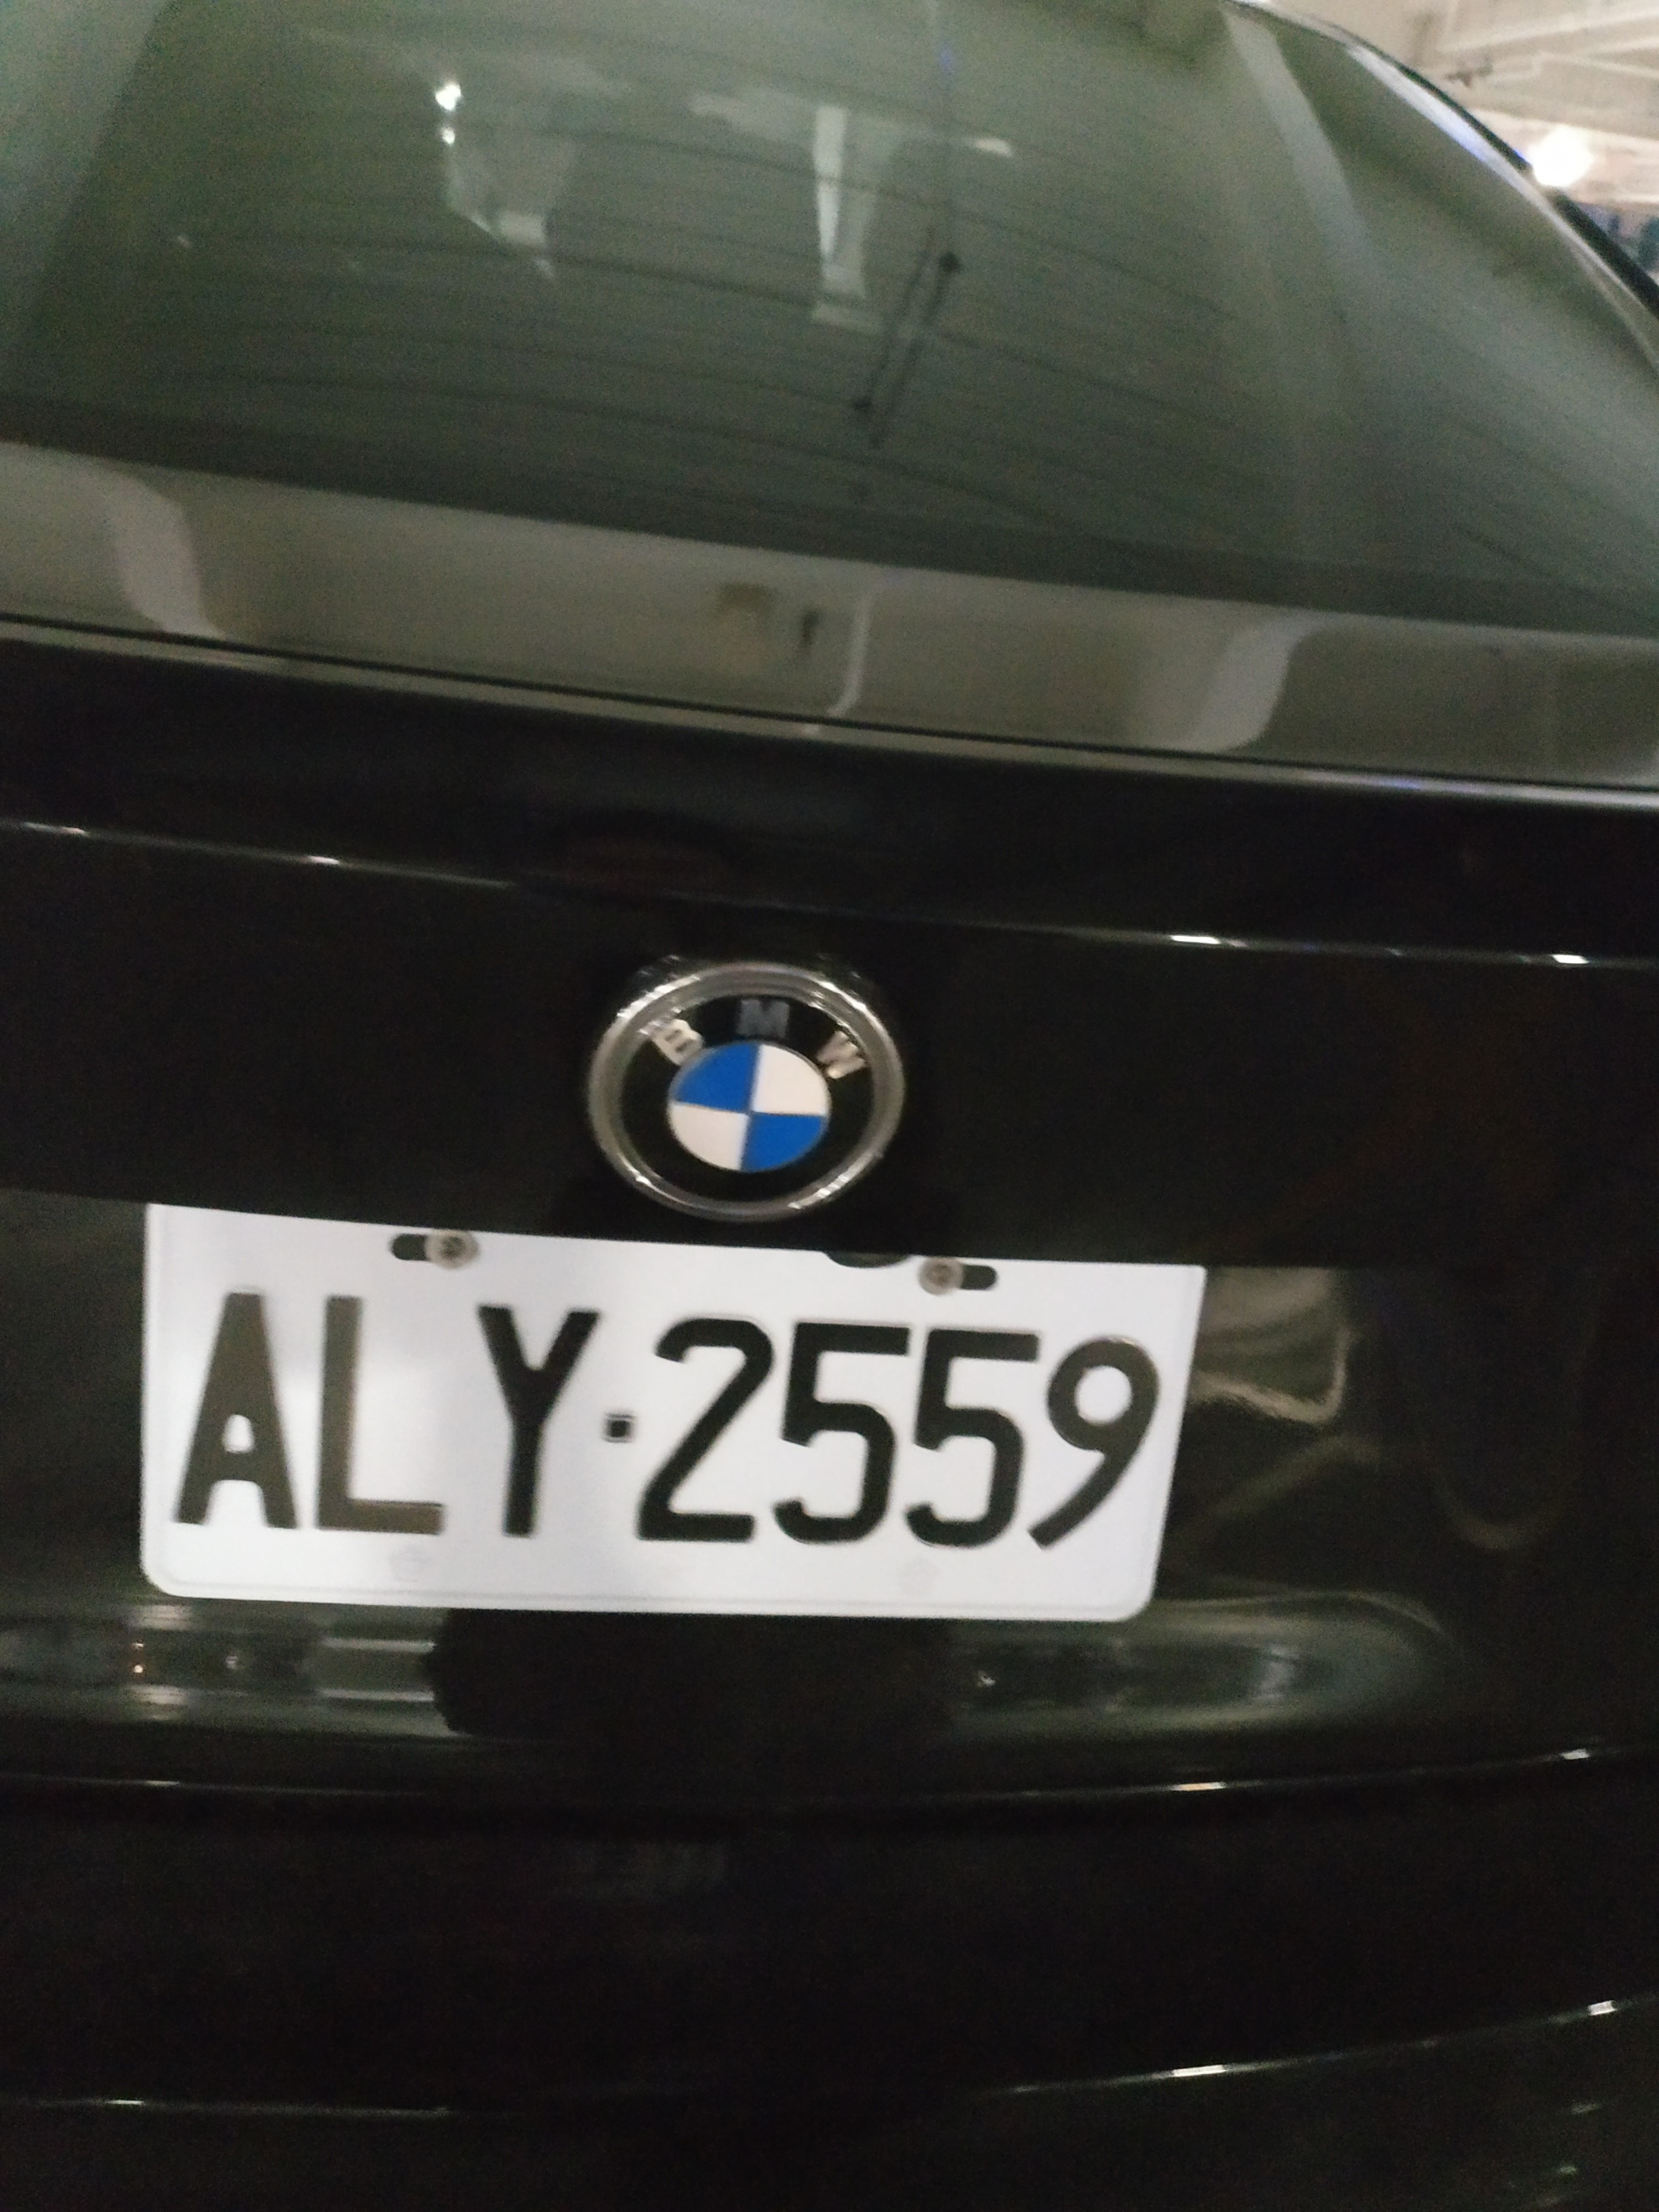car: (5, 105, 1598, 2026)
car_card: (146, 1202, 1164, 1622)
